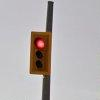traffic lights: (30, 30, 52, 76)
